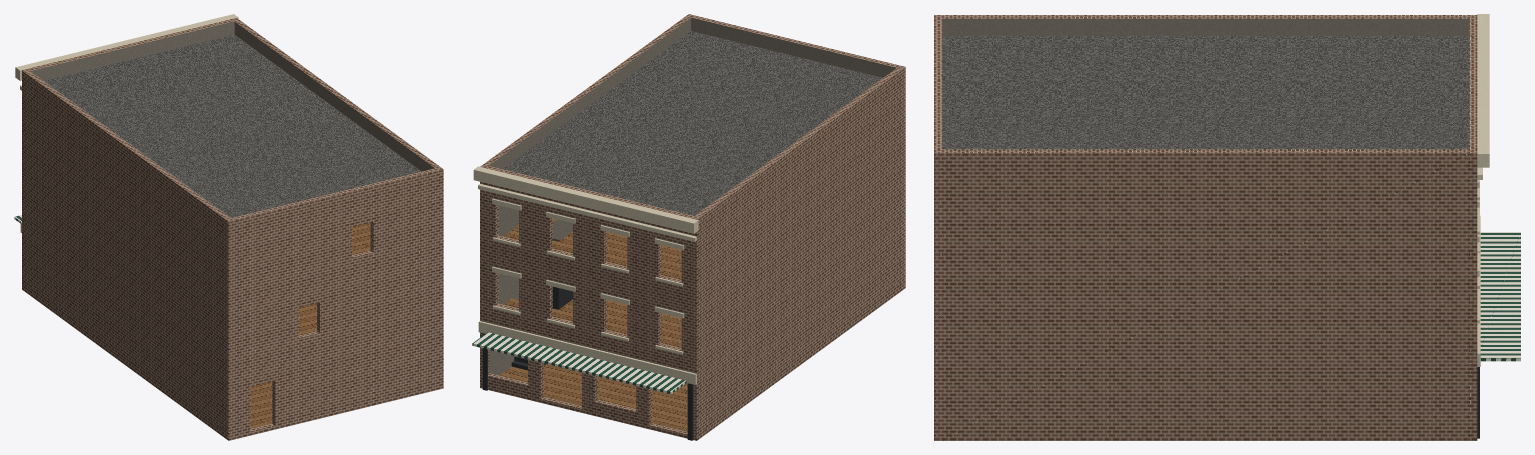
File: main_street_brown_12m_3st.glb
3 views of the same model, side by side, from view 1: azimuth 30°, elevation 25°; view 2: azimuth 150°, elevation 25°; view 3: azimuth 270°, elevation 25° (orthographic). The views are drawn at different scales.
Parts seen in each view (by area): view 1: main_street_brown_12m_3st; view 2: main_street_brown_12m_3st; view 3: main_street_brown_12m_3st.
Part boxes in pixels (box(x1,y1,x2,y2)): main_street_brown_12m_3st: box(14, 14, 443, 440); main_street_brown_12m_3st: box(472, 14, 905, 440); main_street_brown_12m_3st: box(934, 14, 1520, 440).
Bounding box in the file's own units: 12.2 × 11.7 × 21.6.
7 materials, 7 textured.
